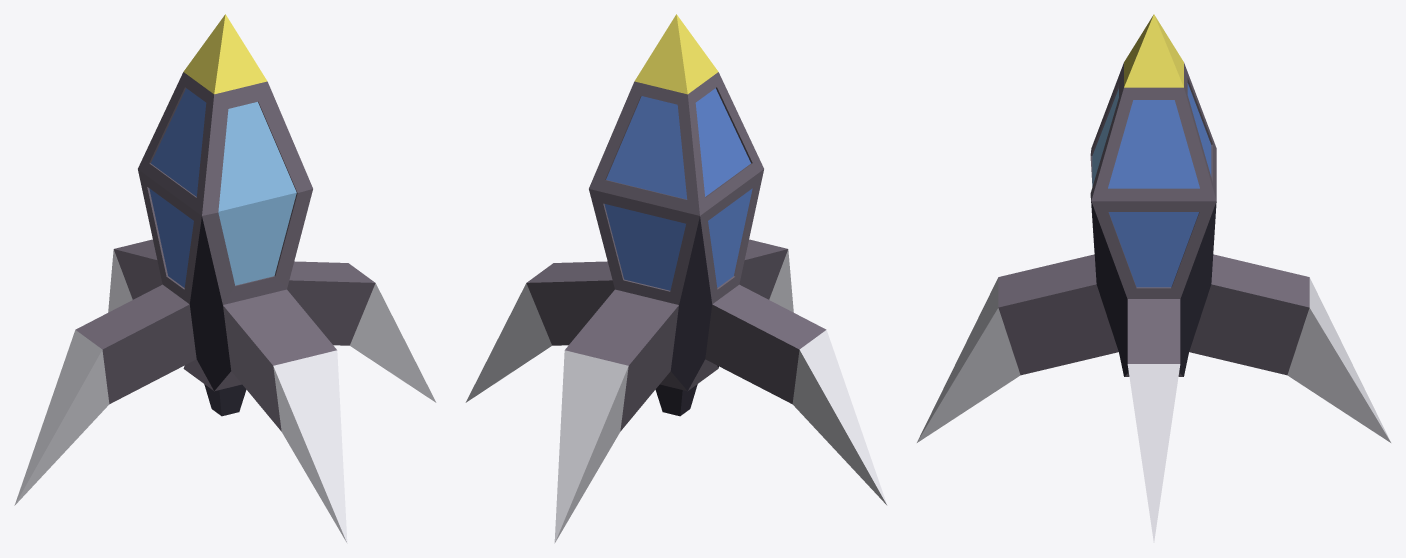
File: rocket_lp.obj
The picture shows the model from 3 angles, left to right: view 1: azimuth 30°, elevation 25°; view 2: azimuth 150°, elevation 25°; view 3: azimuth 270°, elevation 25°; orthographic projection. The views are drawn at different scales.
Parts seen in each view (by area): view 1: Cube; view 2: Cube; view 3: Cube.
Boxes of the visible parts, x1,y1,x2,y2 form: Cube: (14,14,436,543); Cube: (465,14,887,543); Cube: (917,14,1390,542).
Size of the model in its own units: 7.59 by 7.57 by 7.59.
Materials: 1 (1 with a texture image).
